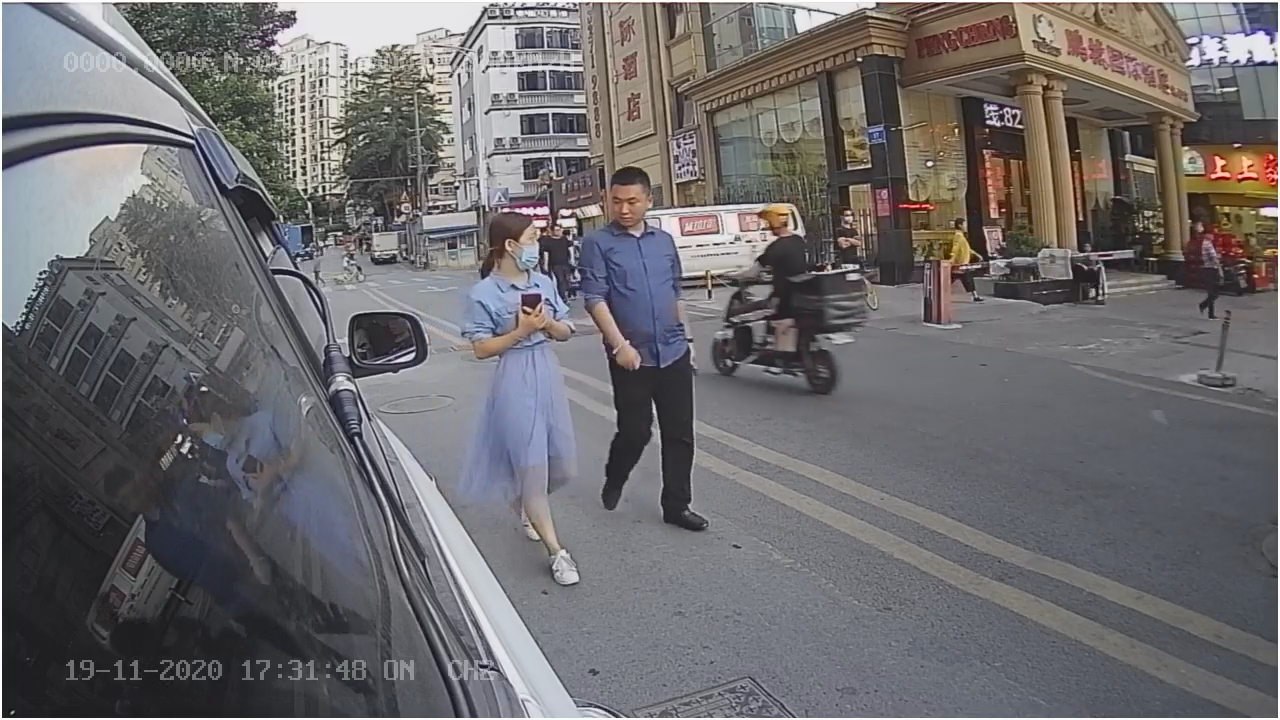person: (581, 174, 709, 520), (460, 210, 580, 504)
